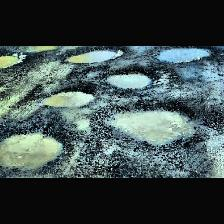pothole: (100, 100, 202, 150), (0, 127, 68, 171), (146, 46, 218, 64), (60, 46, 130, 64), (40, 86, 94, 108), (104, 68, 156, 90), (0, 52, 26, 69), (24, 46, 60, 52)
